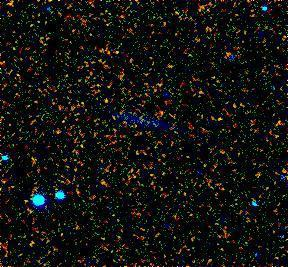star: (94, 81, 124, 111)
